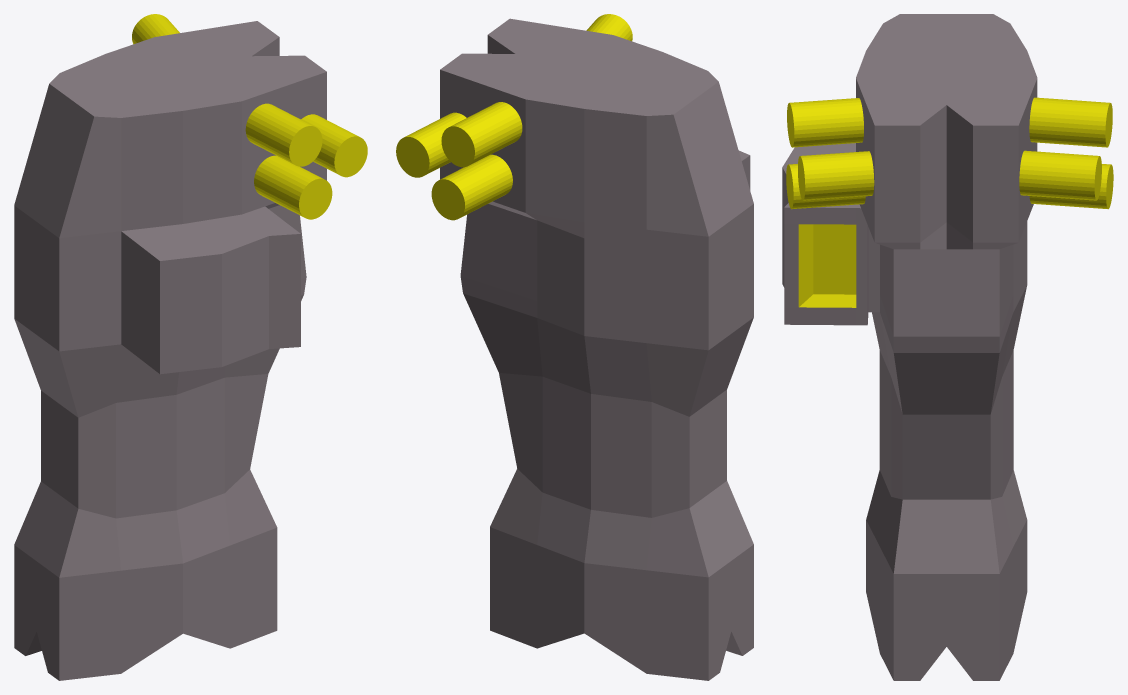
The model's file is EnemyGunWithColor.fbx.
3 renders of one model, left to right at view 1: azimuth 30°, elevation 25°; view 2: azimuth 150°, elevation 25°; view 3: azimuth 270°, elevation 25°, orthographic. The views are drawn at different scales.
Visible parts, largest first — view 1: Cube.019, Cylinder.002, Cylinder, Cylinder.001, Cylinder.003; view 2: Cube.019, Cylinder.003, Cylinder.005, Cylinder.004, Cylinder; view 3: Cube.019, Cylinder.003, Cylinder.004, Cylinder, Cylinder.001, Cylinder.005, Cylinder.002.
Boxes of the visible parts, <box> form: Cube.019: <box>14,21,326,680</box>; Cylinder.002: <box>254,155,332,219</box>; Cylinder: <box>245,103,322,166</box>; Cylinder.001: <box>301,114,367,177</box>; Cylinder.003: <box>132,14,179,44</box>; Cube.019: <box>440,18,753,680</box>; Cylinder.003: <box>441,102,522,167</box>; Cylinder.005: <box>431,154,512,220</box>; Cylinder.004: <box>396,112,466,177</box>; Cylinder: <box>586,14,632,41</box>; Cube.019: <box>782,14,1037,680</box>; Cylinder.003: <box>1029,97,1112,147</box>; Cylinder.004: <box>1019,150,1101,200</box>; Cylinder: <box>787,98,863,147</box>; Cylinder.001: <box>798,151,874,200</box>; Cylinder.005: <box>1029,164,1113,209</box>; Cylinder.002: <box>786,164,865,209</box>.
Bounding box in the file's own units: 149 × 301 × 157.
